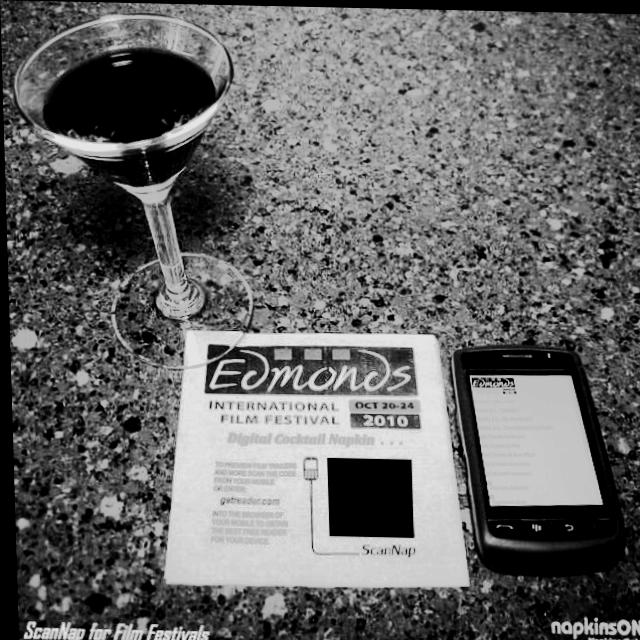qr_code: (324, 456, 410, 536)
